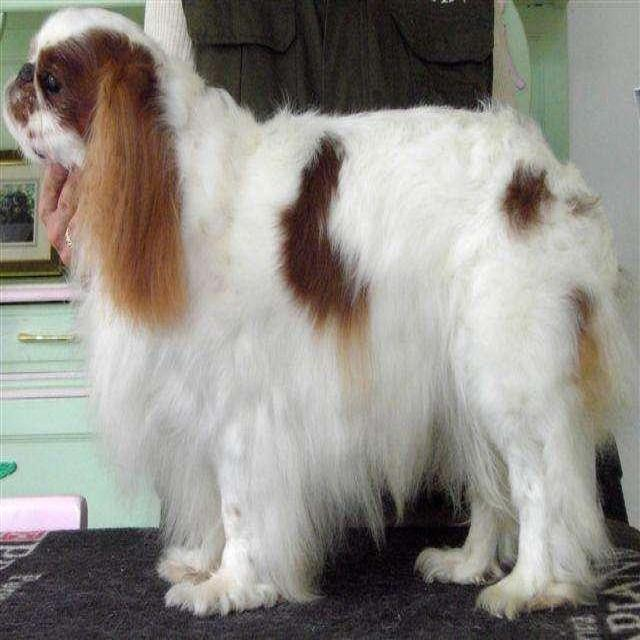blenheim_spaniel: (0, 2, 637, 626)
